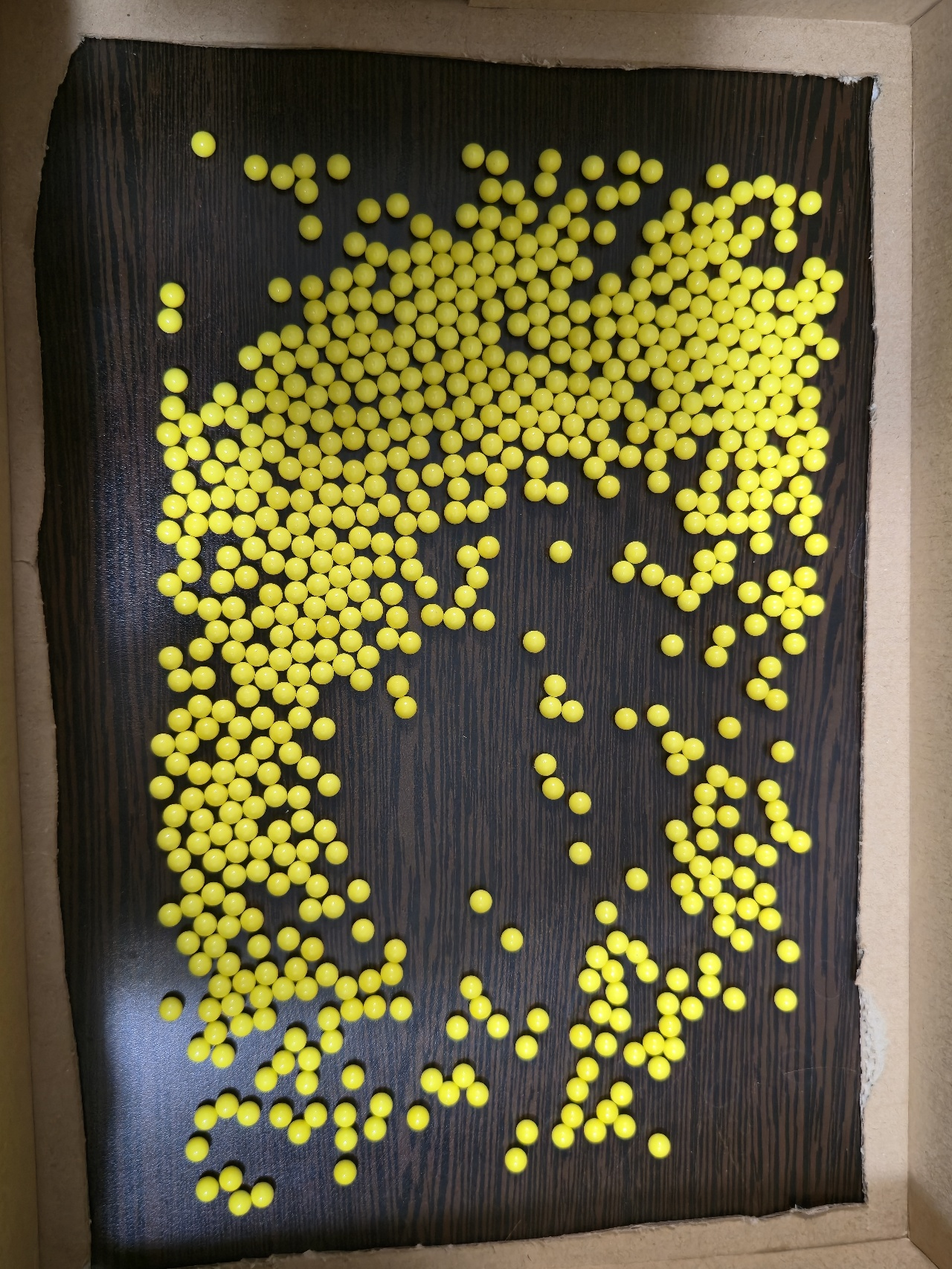yellow_bead: (776, 826, 806, 847), (163, 578, 177, 591), (177, 475, 190, 489), (166, 402, 180, 415), (155, 781, 168, 794), (183, 565, 196, 578), (222, 551, 235, 564), (238, 520, 251, 533), (214, 516, 227, 529), (241, 494, 254, 507), (206, 465, 219, 478), (221, 444, 234, 457), (521, 1041, 533, 1055), (600, 1038, 612, 1052), (289, 1033, 301, 1047), (451, 1021, 463, 1035), (395, 1002, 407, 1016), (179, 597, 193, 609), (181, 541, 195, 553), (426, 1073, 437, 1088), (199, 137, 210, 152), (521, 1125, 533, 1138), (339, 1109, 351, 1122), (309, 1109, 321, 1122), (457, 1069, 469, 1082), (492, 1020, 504, 1033), (614, 1013, 626, 1026), (164, 1003, 176, 1016), (686, 1002, 698, 1015), (227, 999, 239, 1012), (662, 997, 675, 1009), (584, 974, 596, 987), (321, 968, 333, 981), (782, 945, 795, 957), (631, 945, 643, 958), (328, 900, 340, 913), (187, 874, 199, 887), (278, 849, 291, 861), (302, 844, 314, 857), (163, 833, 176, 845), (319, 825, 331, 838), (269, 790, 282, 802), (240, 759, 253, 771), (284, 747, 297, 759), (203, 603, 216, 615), (290, 563, 303, 575), (248, 542, 261, 554), (260, 512, 273, 524), (193, 495, 206, 507), (324, 489, 337, 501), (254, 475, 267, 487), (245, 453, 257, 466), (171, 452, 183, 465), (289, 430, 301, 443), (246, 429, 259, 441), (248, 394, 260, 407), (219, 388, 231, 401), (170, 374, 182, 387), (278, 356, 290, 369), (821, 343, 834, 355), (805, 328, 818, 340), (804, 197, 816, 210), (472, 1088, 483, 1102), (557, 1131, 569, 1143), (653, 1063, 665, 1075), (303, 1053, 315, 1065), (780, 994, 792, 1006), (728, 993, 740, 1005), (341, 982, 353, 994), (672, 974, 684, 986), (736, 934, 748, 946), (506, 934, 518, 946), (283, 932, 295, 944), (600, 907, 612, 919), (228, 898, 240, 910), (759, 888, 771, 900), (631, 873, 643, 885), (738, 872, 750, 884), (173, 854, 185, 866), (761, 849, 773, 861), (231, 846, 243, 858), (297, 815, 309, 827), (293, 791, 305, 803), (323, 779, 335, 791), (667, 736, 679, 748), (294, 712, 306, 724), (237, 667, 249, 679), (251, 649, 263, 661), (297, 646, 309, 658), (320, 644, 332, 656), (309, 602, 321, 614), (312, 579, 324, 591), (216, 576, 228, 588), (319, 533, 331, 545), (711, 518, 723, 530), (753, 515, 765, 527), (779, 498, 791, 510), (348, 489, 360, 501), (453, 483, 465, 495), (231, 472, 243, 484), (284, 462, 296, 474), (448, 460, 460, 472), (471, 457, 483, 469), (370, 457, 382, 469), (808, 454, 820, 466), (267, 445, 279, 457), (193, 442, 205, 454), (792, 440, 804, 452), (231, 411, 243, 423), (788, 342, 800, 354), (263, 338, 275, 350), (780, 235, 792, 247), (776, 212, 788, 224), (257, 1189, 268, 1202), (510, 1154, 521, 1167), (654, 1139, 665, 1152), (629, 1048, 640, 1061), (466, 981, 477, 994), (358, 924, 369, 937), (353, 884, 364, 897), (228, 870, 241, 881), (293, 867, 306, 878), (208, 854, 221, 865), (331, 846, 342, 859), (255, 841, 268, 852), (217, 766, 230, 777), (157, 739, 170, 750), (292, 669, 305, 680), (164, 652, 177, 663), (788, 638, 801, 649), (275, 631, 288, 642), (235, 624, 248, 635), (807, 600, 820, 611), (267, 556, 280, 567), (315, 556, 328, 567), (794, 520, 807, 531), (190, 518, 201, 531), (295, 495, 308, 506), (755, 493, 768, 504), (271, 492, 284, 503), (217, 491, 230, 502), (794, 481, 807, 492), (184, 419, 197, 430), (208, 408, 219, 421), (817, 297, 830, 308), (590, 1125, 601, 1137), (221, 1102, 233, 1113), (376, 1099, 387, 1111), (616, 1088, 627, 1100), (669, 1044, 680, 1056), (323, 1014, 335, 1025), (595, 1006, 606, 1018), (642, 965, 653, 977), (591, 951, 602, 963), (254, 940, 265, 952), (183, 937, 194, 949), (612, 937, 623, 949), (765, 913, 776, 925), (305, 904, 316, 916), (686, 899, 698, 910), (312, 880, 323, 892), (252, 866, 264, 877), (695, 861, 706, 873), (193, 838, 205, 849), (273, 826, 285, 837), (169, 809, 180, 821), (225, 806, 237, 817), (248, 801, 260, 812), (574, 797, 585, 809), (234, 783, 246, 794), (547, 783, 559, 794), (257, 742, 268, 754), (257, 712, 268, 724), (302, 690, 314, 701), (242, 690, 254, 701), (278, 687, 290, 698), (338, 659, 350, 670), (666, 640, 678, 651), (210, 626, 222, 637), (478, 614, 489, 626), (744, 587, 756, 598), (647, 569, 659, 580), (297, 541, 309, 552), (811, 539, 823, 550), (756, 538, 768, 549), (274, 533, 286, 544), (164, 526, 176, 537), (400, 518, 411, 530), (292, 518, 304, 529), (689, 517, 701, 528), (338, 512, 350, 523), (315, 510, 327, 521), (362, 509, 374, 520), (805, 500, 817, 511), (169, 500, 181, 511), (383, 499, 395, 510), (703, 498, 714, 510), (732, 495, 744, 506), (370, 481, 382, 492), (402, 474, 413, 486), (306, 473, 318, 484), (428, 469, 439, 481), (506, 452, 518, 463), (486, 439, 498, 450), (446, 436, 457, 448), (724, 435, 736, 446), (812, 432, 824, 443), (781, 420, 793, 431), (567, 420, 579, 431), (268, 420, 280, 431), (800, 414, 812, 425), (537, 393, 548, 405), (707, 390, 718, 402), (765, 379, 776, 391), (399, 330, 411, 341), (757, 295, 769, 306), (808, 263, 820, 274), (747, 222, 759, 233), (737, 187, 748, 199), (759, 181, 770, 193), (277, 171, 289, 182), (621, 1120, 631, 1133), (215, 828, 228, 838), (786, 614, 799, 624), (290, 587, 303, 597), (236, 1021, 247, 1032), (214, 981, 225, 992), (719, 898, 730, 909), (475, 896, 486, 907), (718, 862, 729, 873), (574, 847, 585, 858), (679, 846, 690, 857), (702, 834, 713, 845), (672, 825, 683, 836), (540, 759, 551, 770), (778, 746, 789, 757), (653, 710, 664, 721), (545, 702, 556, 713), (753, 684, 764, 695), (550, 680, 561, 691), (356, 674, 367, 685), (711, 651, 722, 662), (363, 651, 374, 662), (228, 646, 239, 657), (382, 633, 393, 644), (768, 600, 779, 611), (386, 588, 397, 599), (472, 571, 483, 582), (618, 566, 629, 577), (463, 551, 474, 562), (555, 546, 566, 557), (377, 538, 388, 549), (472, 506, 483, 517), (681, 495, 692, 506), (413, 495, 424, 506), (552, 487, 563, 498), (653, 476, 664, 487), (705, 475, 716, 486), (765, 473, 776, 484), (532, 461, 543, 472), (326, 461, 337, 472), (712, 454, 723, 465), (393, 452, 404, 463), (625, 451, 636, 462), (305, 449, 316, 460), (603, 444, 614, 455), (574, 442, 585, 453), (528, 433, 539, 444), (593, 424, 604, 435), (544, 416, 555, 427), (718, 414, 729, 425), (295, 407, 306, 418), (408, 396, 419, 407), (361, 385, 372, 396), (289, 379, 300, 390), (739, 375, 750, 386), (754, 360, 765, 371), (370, 358, 381, 369), (393, 353, 404, 364), (301, 350, 312, 361), (419, 345, 430, 356), (766, 340, 777, 351), (422, 320, 433, 331), (463, 318, 474, 329), (361, 316, 372, 327), (355, 292, 366, 303), (522, 263, 533, 274), (191, 1147, 203, 1157), (326, 1038, 338, 1048), (301, 983, 311, 995), (279, 983, 289, 995), (209, 941, 221, 951), (718, 921, 730, 931), (164, 909, 176, 919), (704, 881, 716, 891), (678, 878, 688, 890), (196, 814, 208, 824), (771, 806, 783, 816), (701, 788, 711, 800), (763, 786, 775, 796), (275, 726, 287, 736), (318, 723, 330, 733), (718, 631, 730, 641), (750, 620, 762, 630), (788, 592, 800, 602), (774, 576, 786, 586), (799, 572, 811, 582), (334, 571, 346, 581), (406, 564, 418, 574), (699, 555, 711, 565), (354, 532, 366, 542), (732, 518, 744, 528), (651, 454, 661, 466), (414, 441, 424, 453), (553, 439, 563, 451), (750, 434, 762, 444), (373, 434, 385, 444), (605, 403, 615, 415), (776, 399, 788, 409), (803, 392, 815, 402), (260, 374, 272, 384), (698, 364, 708, 376), (274, 285, 286, 295), (769, 272, 779, 284), (535, 1014, 544, 1027), (222, 959, 235, 968), (234, 722, 247, 731), (218, 705, 231, 714), (260, 675, 273, 684), (173, 674, 186, 683), (197, 672, 210, 681), (195, 643, 208, 652), (240, 571, 253, 580), (444, 1089, 454, 1100), (572, 1085, 583, 1095), (260, 1076, 271, 1086), (278, 1060, 289, 1070), (262, 968, 272, 979), (608, 966, 618, 977), (195, 959, 205, 970), (390, 945, 401, 955), (199, 918, 210, 928), (186, 900, 197, 910), (724, 811, 734, 822), (713, 771, 723, 782), (765, 662, 776, 672), (529, 636, 540, 646), (449, 613, 460, 623), (367, 604, 378, 614), (684, 595, 695, 605), (421, 582, 432, 592), (697, 577, 707, 588), (718, 568, 728, 579), (631, 547, 641, 558), (720, 546, 731, 556), (423, 515, 434, 525), (530, 484, 541, 494), (743, 476, 754, 486), (590, 462, 600, 473), (741, 454, 752, 464), (660, 434, 671, 444), (504, 424, 515, 434), (417, 419, 428, 429), (676, 417, 686, 428), (740, 414, 750, 425), (582, 402, 593, 412), (688, 397, 698, 408), (312, 391, 322, 402), (477, 388, 487, 399), (596, 382, 606, 393), (787, 379, 797, 390), (318, 369, 329, 379), (734, 353, 744, 364), (713, 348, 723, 359), (467, 341, 477, 352), (746, 334, 756, 345), (287, 332, 298, 342), (314, 330, 324, 341), (781, 321, 791, 332), (761, 318, 771, 329), (443, 308, 453, 319), (826, 276, 837, 286), (747, 272, 757, 283), (394, 256, 405, 266), (719, 202, 730, 212), (347, 1076, 359, 1085), (611, 989, 623, 998), (704, 958, 716, 967), (744, 903, 753, 915), (698, 812, 710, 821), (186, 793, 198, 802), (181, 736, 193, 745), (193, 700, 205, 709), (280, 611, 292, 620), (331, 594, 343, 603), (338, 547, 350, 556), (400, 542, 412, 551), (396, 423, 405, 435), (506, 396, 515, 408), (248, 352, 257, 364), (515, 318, 524, 330), (303, 184, 312, 196), (171, 758, 184, 766), (168, 314, 176, 327), (170, 289, 178, 302), (259, 1016, 269, 1026), (673, 759, 683, 769), (689, 744, 699, 754), (317, 415, 327, 425), (440, 414, 450, 424), (364, 413, 374, 423), (560, 398, 570, 408), (520, 379, 530, 389), (384, 378, 394, 388), (552, 376, 562, 386), (610, 364, 620, 374), (577, 355, 587, 365), (443, 332, 453, 342), (401, 307, 411, 317), (489, 304, 499, 314), (713, 247, 723, 257), (647, 166, 657, 176), (223, 922, 234, 931), (208, 887, 219, 896), (273, 878, 284, 887), (742, 839, 751, 850), (210, 788, 221, 797), (223, 742, 234, 751), (621, 713, 632, 722), (393, 681, 404, 690), (460, 594, 471, 603), (490, 492, 501, 501), (327, 437, 336, 448), (469, 423, 478, 434), (387, 401, 396, 412), (454, 379, 463, 390), (486, 327, 495, 338), (704, 323, 713, 334), (556, 321, 565, 332), (535, 308, 544, 319), (698, 301, 707, 312), (332, 297, 343, 306), (422, 295, 431, 306), (715, 283, 724, 294), (502, 271, 511, 282), (361, 269, 370, 280), (727, 265, 736, 276), (263, 772, 275, 780), (303, 766, 315, 774), (350, 364, 358, 376), (654, 350, 662, 362), (309, 942, 318, 952), (195, 767, 205, 776), (174, 713, 184, 722), (773, 694, 782, 704), (605, 481, 614, 491), (492, 469, 502, 478), (350, 466, 360, 475), (652, 414, 661, 424), (524, 411, 533, 421), (460, 402, 469, 412), (730, 395, 739, 405), (666, 395, 675, 405), (659, 373, 668, 383), (625, 344, 634, 354), (692, 343, 701, 353), (666, 333, 675, 343), (663, 310, 672, 320), (637, 283, 646, 293), (338, 274, 347, 284), (640, 261, 649, 271), (524, 240, 533, 250), (602, 227, 611, 237), (669, 216, 679, 225), (699, 208, 709, 217), (725, 722, 736, 730), (405, 637, 416, 645), (299, 623, 310, 631), (427, 609, 438, 617), (450, 507, 461, 515), (683, 443, 691, 454), (620, 385, 628, 396), (408, 373, 416, 384), (536, 361, 544, 372), (342, 320, 350, 331), (684, 319, 692, 330), (736, 290, 744, 301), (443, 283, 451, 294), (481, 258, 489, 269), (240, 828, 252, 835), (345, 639, 357, 646), (371, 1005, 380, 1014), (293, 963, 302, 972), (393, 611, 402, 620), (632, 405, 641, 414), (576, 306, 585, 315), (677, 294, 686, 303), (462, 271, 471, 280), (418, 248, 427, 257), (564, 245, 573, 254), (651, 226, 660, 235), (266, 589, 276, 597), (699, 419, 707, 429), (681, 377, 689, 387), (721, 370, 729, 380), (515, 357, 523, 367), (558, 346, 566, 356), (603, 323, 611, 333), (721, 306, 729, 316), (620, 298, 628, 308), (556, 295, 564, 305), (536, 284, 544, 294), (399, 280, 407, 290), (420, 271, 428, 281), (676, 263, 684, 273), (488, 212, 496, 222), (579, 1030, 586, 1041), (356, 566, 367, 573), (483, 542, 494, 549), (274, 396, 281, 407), (637, 364, 644, 375), (357, 339, 364, 350), (727, 329, 734, 340), (660, 277, 667, 288), (482, 234, 489, 245), (586, 1067, 594, 1076), (220, 1050, 229, 1058), (703, 980, 715, 986), (249, 913, 257, 922), (350, 432, 359, 440), (635, 427, 643, 436), (646, 330, 654, 339), (580, 263, 588, 272), (511, 187, 519, 196), (715, 170, 724, 178), (591, 163, 599, 172), (300, 162, 309, 170), (495, 158, 503, 167), (734, 782, 741, 792), (324, 620, 334, 627), (538, 332, 545, 342), (643, 306, 650, 316), (465, 295, 472, 305), (545, 253, 552, 263), (308, 222, 315, 232), (567, 710, 578, 716), (318, 672, 329, 678), (607, 192, 613, 203), (211, 1031, 219, 1039), (356, 589, 364, 597), (625, 321, 633, 329), (382, 298, 390, 306), (557, 211, 565, 219), (349, 1007, 356, 1016), (206, 1007, 213, 1016), (259, 994, 266, 1003), (277, 658, 286, 665), (347, 617, 356, 624), (233, 605, 240, 614), (490, 410, 497, 419), (668, 585, 678, 591), (238, 1197, 245, 1205), (294, 1131, 301, 1139), (479, 1003, 486, 1011), (390, 970, 398, 977), (451, 356, 458, 364), (335, 347, 342, 355), (695, 255, 702, 263), (353, 240, 360, 248), (466, 211, 473, 219), (544, 179, 551, 187), (336, 164, 344, 171), (472, 151, 479, 159), (562, 272, 567, 283), (203, 724, 212, 730), (433, 367, 439, 376), (515, 292, 521, 301), (485, 283, 491, 292), (547, 231, 553, 240), (162, 428, 172, 433), (698, 277, 703, 287), (681, 194, 686, 204), (577, 379, 584, 386), (502, 249, 509, 256), (369, 974, 373, 986), (434, 393, 440, 401), (313, 309, 321, 315), (462, 248, 468, 256), (395, 202, 403, 208), (344, 1135, 353, 1140), (629, 188, 634, 197), (570, 1114, 577, 1120), (306, 1079, 313, 1085), (652, 1041, 658, 1048), (669, 1024, 676, 1030), (768, 451, 775, 457), (338, 388, 344, 395), (381, 338, 387, 345), (376, 251, 382, 258), (660, 249, 666, 256), (526, 207, 533, 213), (490, 185, 496, 192), (580, 333, 585, 341), (601, 301, 606, 309), (193, 1045, 202, 1049), (263, 614, 269, 620), (499, 376, 505, 382), (600, 347, 606, 353), (703, 231, 707, 240), (579, 225, 585, 231), (628, 158, 634, 164), (679, 356, 684, 363), (494, 352, 499, 359), (610, 280, 615, 287), (343, 1172, 347, 1180), (578, 196, 582, 204), (376, 1125, 381, 1131), (405, 707, 411, 712), (477, 368, 482, 374), (421, 223, 427, 228), (550, 158, 556, 163), (244, 977, 248, 984), (312, 283, 317, 288), (369, 208, 374, 213), (244, 1108, 250, 1112), (172, 434, 176, 440), (803, 284, 811, 287), (443, 262, 447, 268), (442, 237, 446, 243), (512, 226, 516, 231), (784, 460, 790, 463), (799, 288, 802, 294), (683, 240, 686, 246), (345, 414, 349, 418), (234, 1177, 237, 1181), (765, 414, 771, 416), (754, 395, 760, 397), (784, 190, 790, 192), (780, 360, 785, 362), (200, 1114, 203, 1117), (801, 365, 803, 369), (252, 1114, 254, 1117), (257, 616, 260, 618), (744, 312, 747, 314), (803, 307, 808, 308), (739, 240, 744, 241), (792, 296, 794, 298), (779, 199, 781, 201), (806, 361, 809, 362), (254, 173, 257, 174), (254, 161, 257, 162), (799, 313, 800, 315), (423, 1118, 424, 1119), (199, 1118, 200, 1119), (386, 568, 387, 569), (168, 504, 169, 505), (216, 495, 217, 496), (170, 440, 171, 441), (761, 417, 762, 418), (749, 315, 750, 316), (810, 309, 811, 310), (808, 308, 809, 309), (811, 288, 812, 289), (260, 166, 261, 167), (715, 986, 715, 989), (411, 706, 411, 707), (317, 672, 318, 672), (353, 589, 353, 590), (794, 463, 794, 464), (803, 364, 803, 364), (811, 362, 811, 362), (785, 306, 785, 306), (782, 298, 783, 298), (791, 295, 791, 296), (785, 295, 785, 296), (786, 295, 790, 295), (724, 225, 725, 225), (779, 196, 779, 198), (790, 193, 791, 193)
